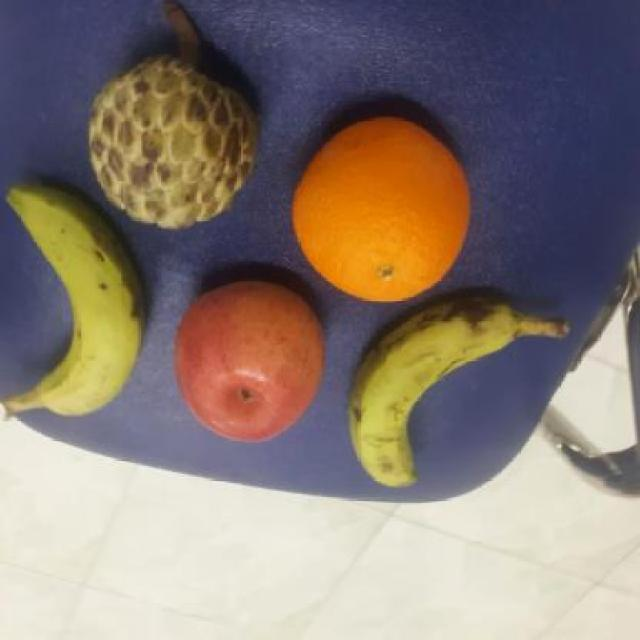apple: (168, 276, 330, 444)
banana: (338, 285, 522, 492), (9, 176, 146, 418)
sugar apple: (88, 52, 266, 237)
